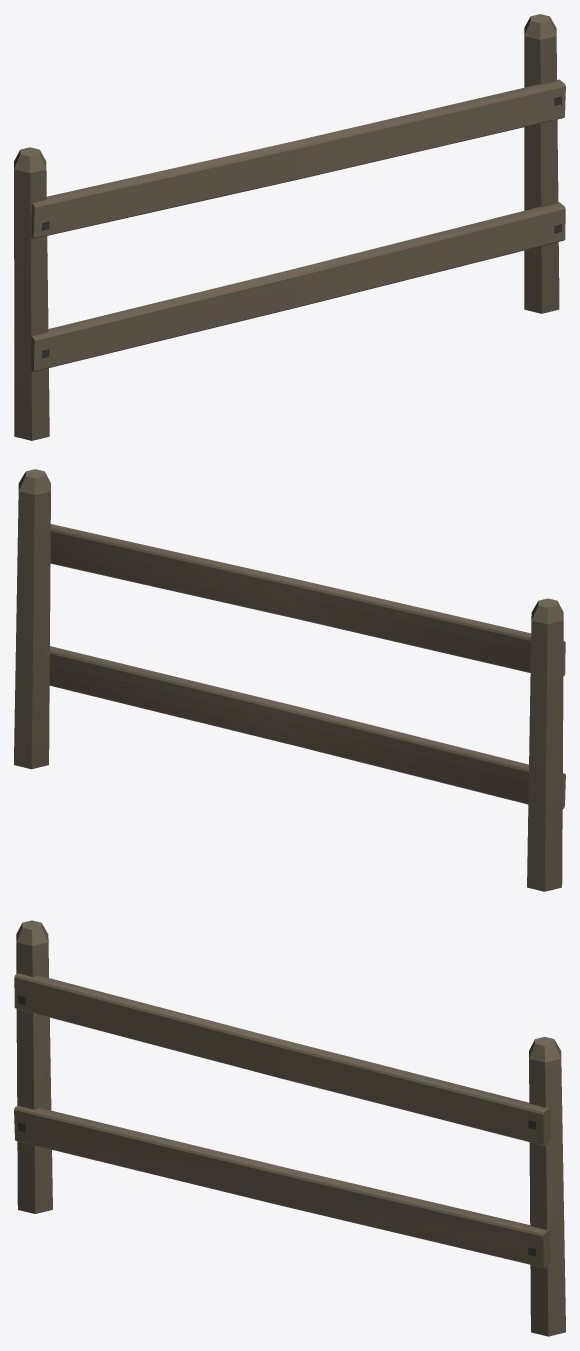
Rendered from prop-fence.glb.
3 views of the same model, one above another, from view 1: azimuth 30°, elevation 25°; view 2: azimuth 150°, elevation 25°; view 3: azimuth 330°, elevation 25° (orthographic).
Visible parts, largest first — view 1: prop-fence; view 2: prop-fence; view 3: prop-fence.
Boxes of the visible parts, box(x1,y1,x2,y2) form: prop-fence: box(14, 14, 565, 440); prop-fence: box(14, 469, 565, 891); prop-fence: box(14, 920, 565, 1336).
Bounding box in the file's own units: 2.34 × 1.17 × 0.1858.
